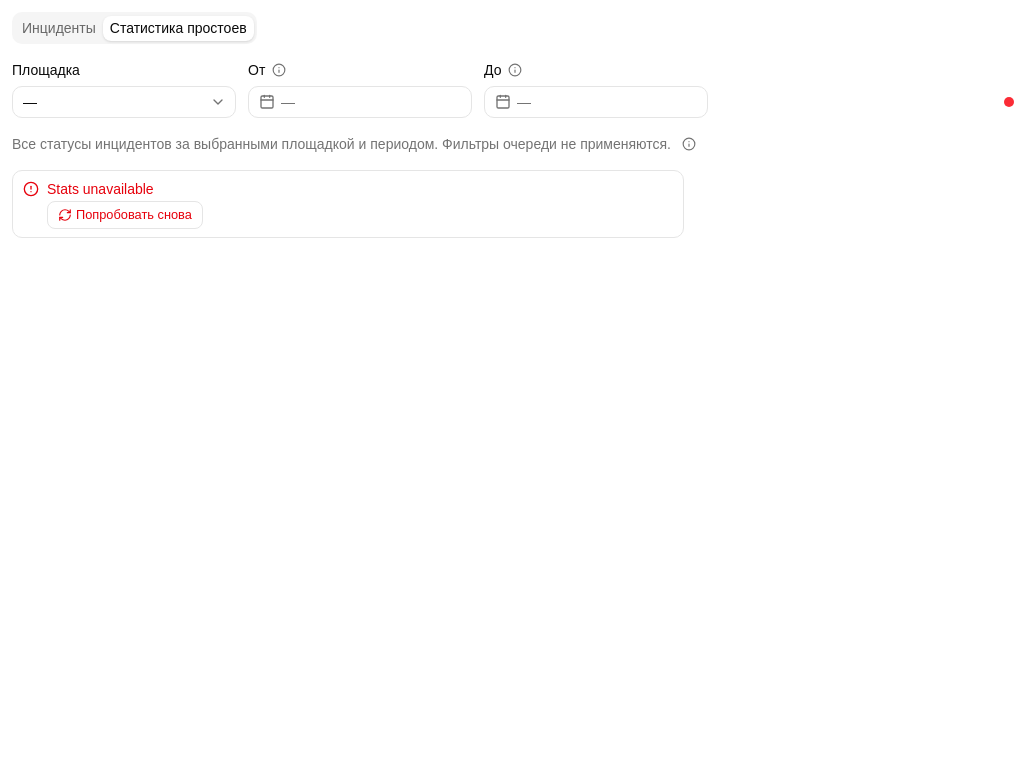
Test: IncidentsPage › shows a statistics failure with retry instead of invented totals
This screenshot has width=1036, height=780.
Check: the message "Stats unavailable Попробовать снова" is shown, box top-left (12, 170), bottom-right (684, 238)
Check: the element "Итоги выбранного периода" is not shown
Click the button "Попробовать снова" at (125, 215), box top-left (47, 201), bottom-right (203, 229)
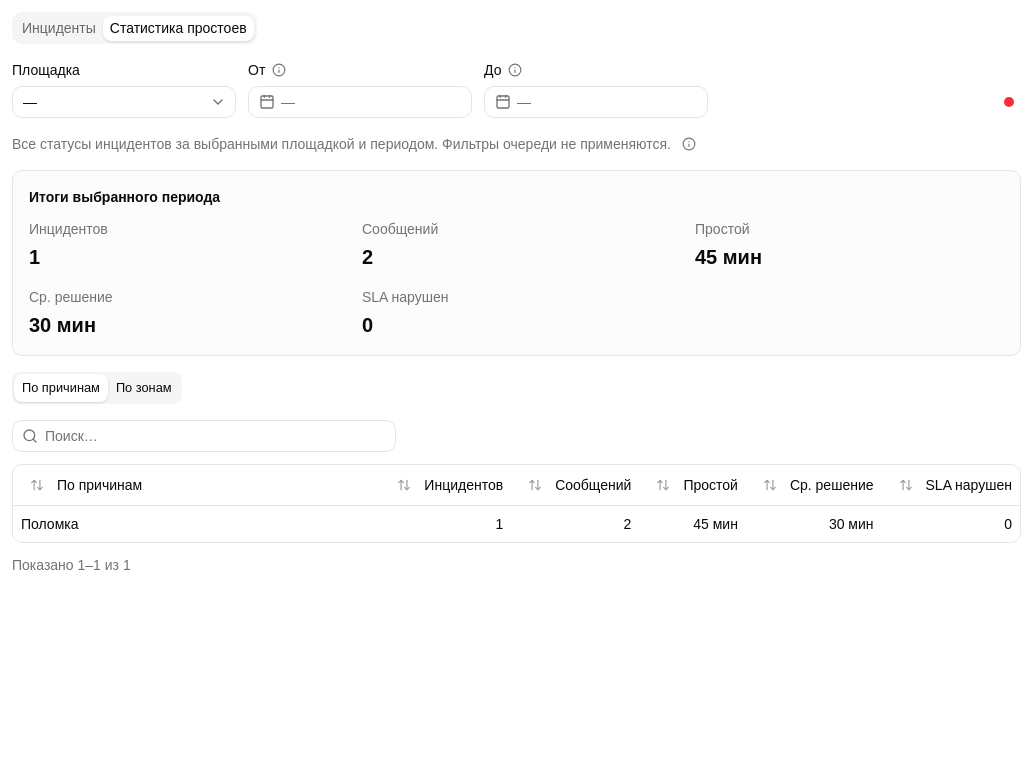
Check: the element "Итоги выбранного периода" is shown, box top-left (12, 170), bottom-right (1021, 356)
